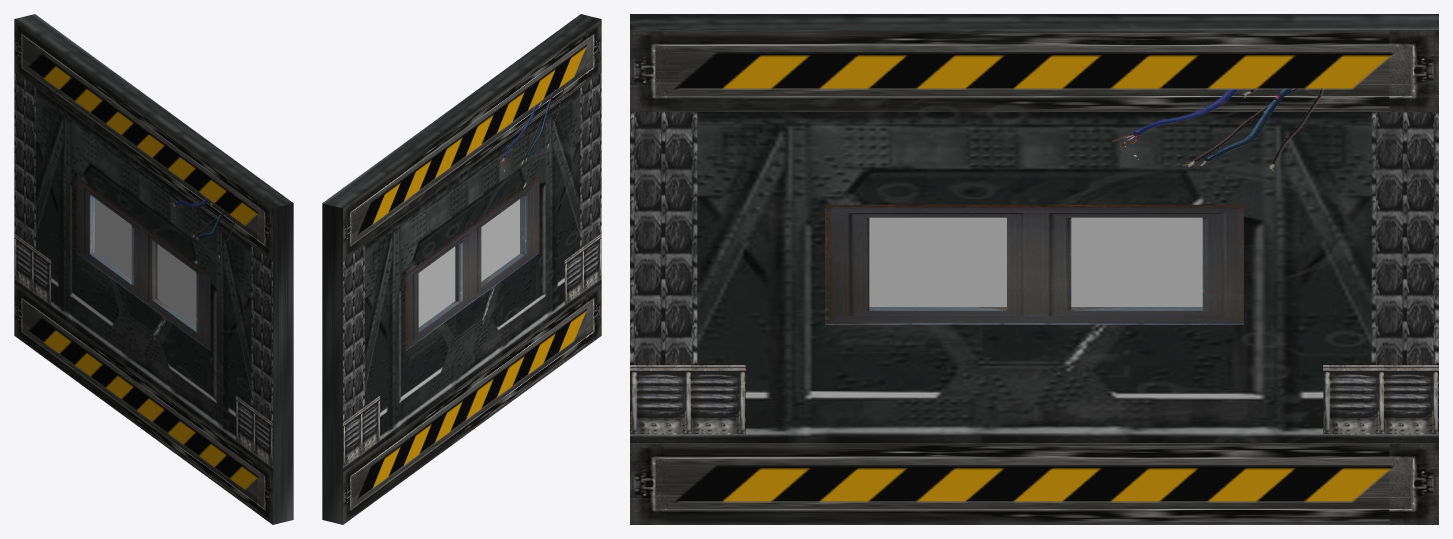
File: door.glb
3 renders of one model, left to right at view 1: azimuth 30°, elevation 25°; view 2: azimuth 150°, elevation 25°; view 3: azimuth 270°, elevation 25°, orthographic. The views are drawn at different scales.
Parts seen in each view (by area): view 1: Cube.001; view 2: Cube.001; view 3: Cube.001.
Part boxes in pixels (box(x1,y1,x2,y2)): Cube.001: box(14, 14, 293, 524); Cube.001: box(322, 14, 601, 524); Cube.001: box(630, 14, 1438, 524).
Size of the model in its own units: 0.4645 by 6.72 by 9.95.
2 materials, 1 textured.
